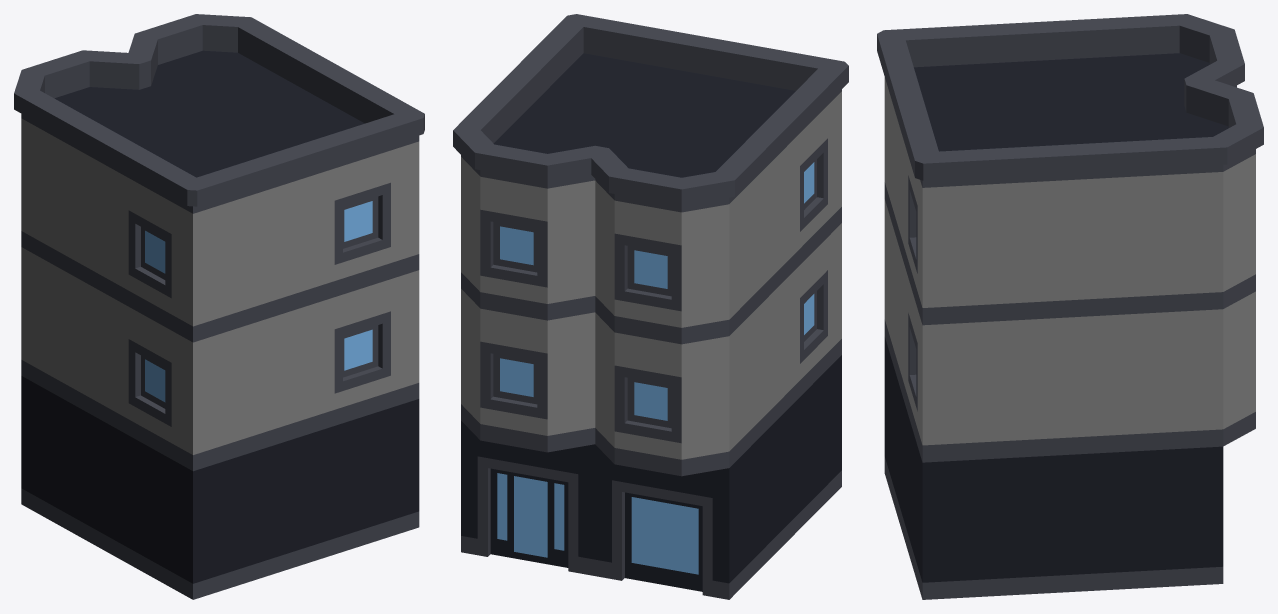
File: variant_1.obj
3 renders of one model, left to right at view 1: azimuth 30°, elevation 25°; view 2: azimuth 150°, elevation 25°; view 3: azimuth 270°, elevation 25°, orthographic. The views are drawn at different scales.
Visible parts, largest first — view 1: small_buildingA; view 2: small_buildingA; view 3: small_buildingA.
Boxes of the visible parts, <box> form: small_buildingA: <box>14,14,424,599</box>; small_buildingA: <box>453,14,848,599</box>; small_buildingA: <box>877,14,1263,599</box>.
Bounding box in the file's own units: 0.9347 × 1.28 × 1.02.
